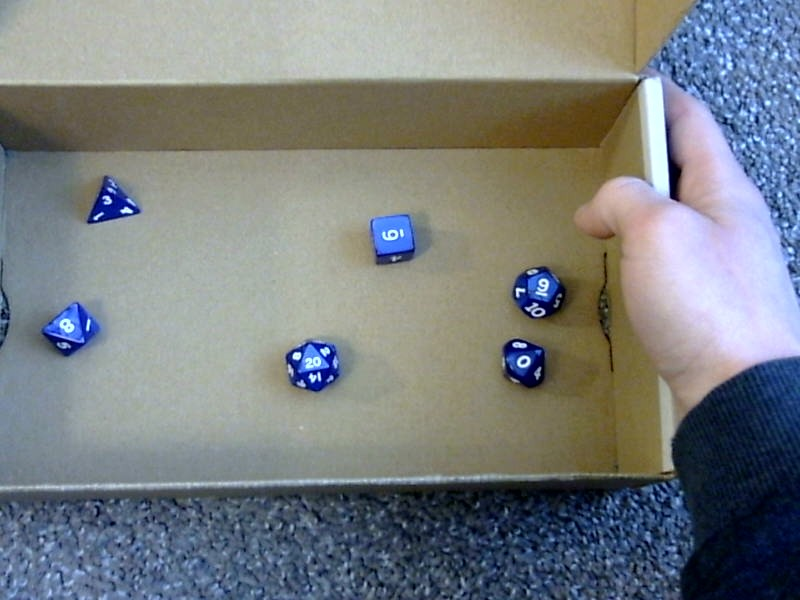d10 10: (496, 338, 546, 390)
d12 9: (510, 260, 565, 320)
d20 20: (276, 334, 341, 394)
d4 3: (79, 169, 143, 225)
d6 6: (366, 207, 415, 267)
d8 8: (36, 295, 102, 359)
